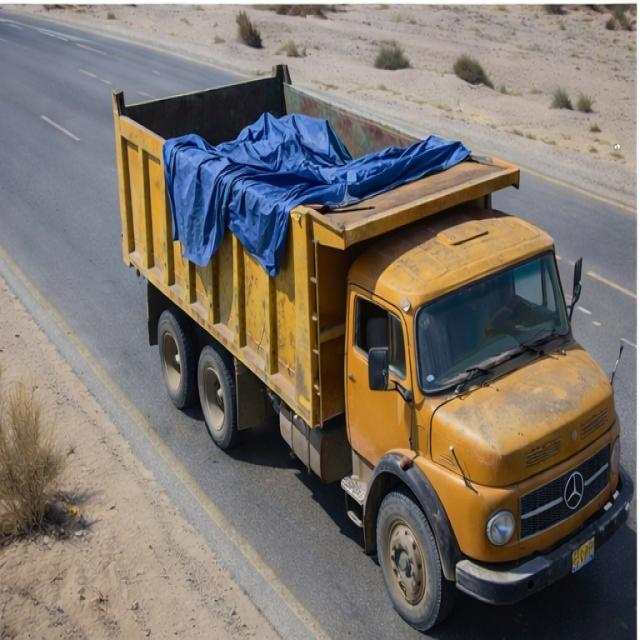Box: (110, 60, 526, 246)
Truck: (97, 34, 636, 617)
